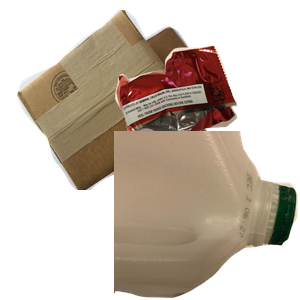cardboard: (14, 10, 222, 190)
glass: (115, 120, 300, 300)
plastic: (114, 131, 300, 300)
trash: (113, 43, 300, 181)
